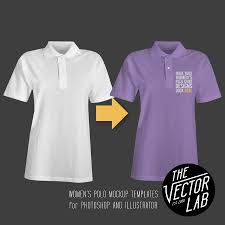C_polo shirt: (114, 40, 222, 182), (7, 45, 115, 180)
